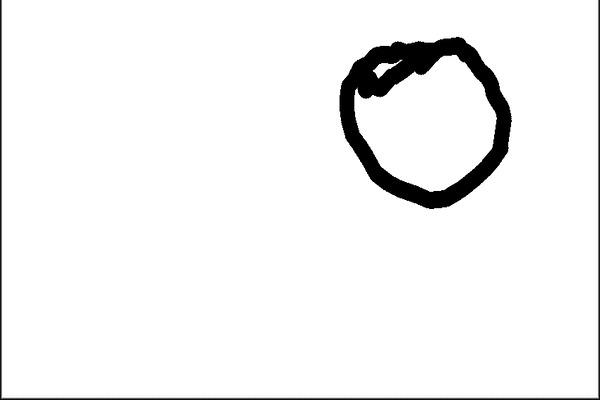O: (330, 29, 519, 222)
